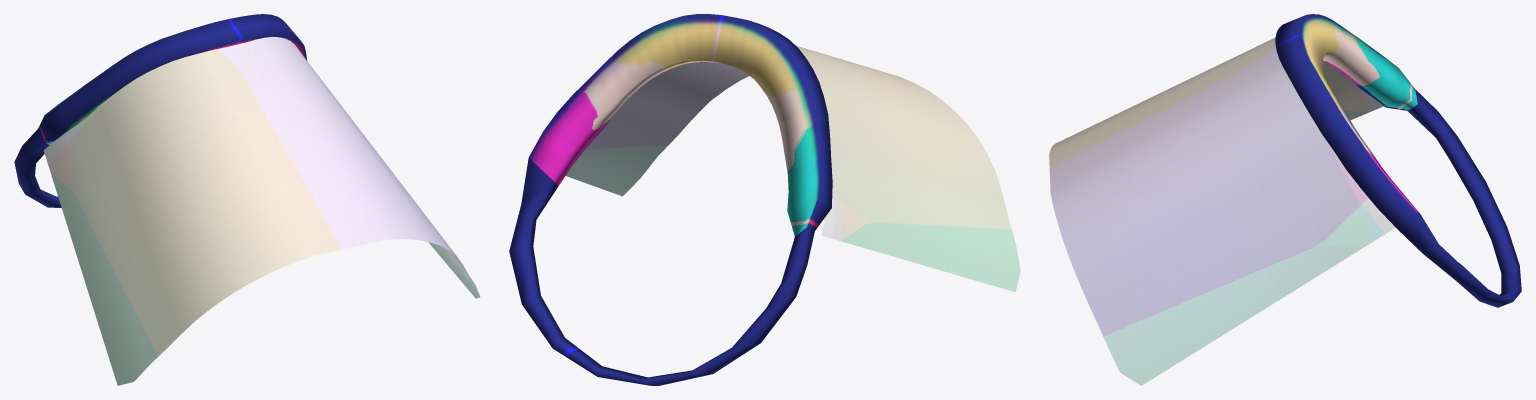
The model's file is FaceShield_ForShelf.obj.
3 views of the same model, side by side, from view 1: azimuth 30°, elevation 25°; view 2: azimuth 150°, elevation 25°; view 3: azimuth 270°, elevation 25° (orthographic). The views are drawn at different scales.
Visible parts, largest first — view 1: FaceShield_BodyMesh.005; view 2: FaceShield_BodyMesh.005; view 3: FaceShield_BodyMesh.005.
Part boxes in pixels (<box>): FaceShield_BodyMesh.005: <box>14,14,480,385</box>; FaceShield_BodyMesh.005: <box>509,14,1020,385</box>; FaceShield_BodyMesh.005: <box>1049,14,1521,385</box>.
Bounding box in the file's own units: 0.291 × 0.205 × 0.3278.
